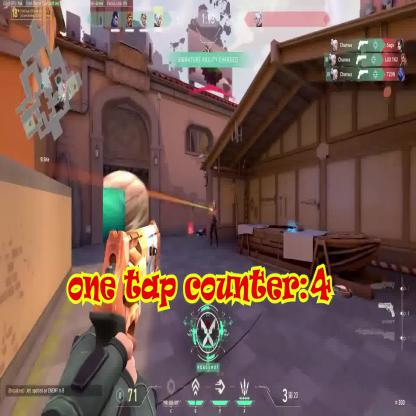enemy: (209, 200, 218, 246)
enemy_head: (213, 200, 215, 208)
